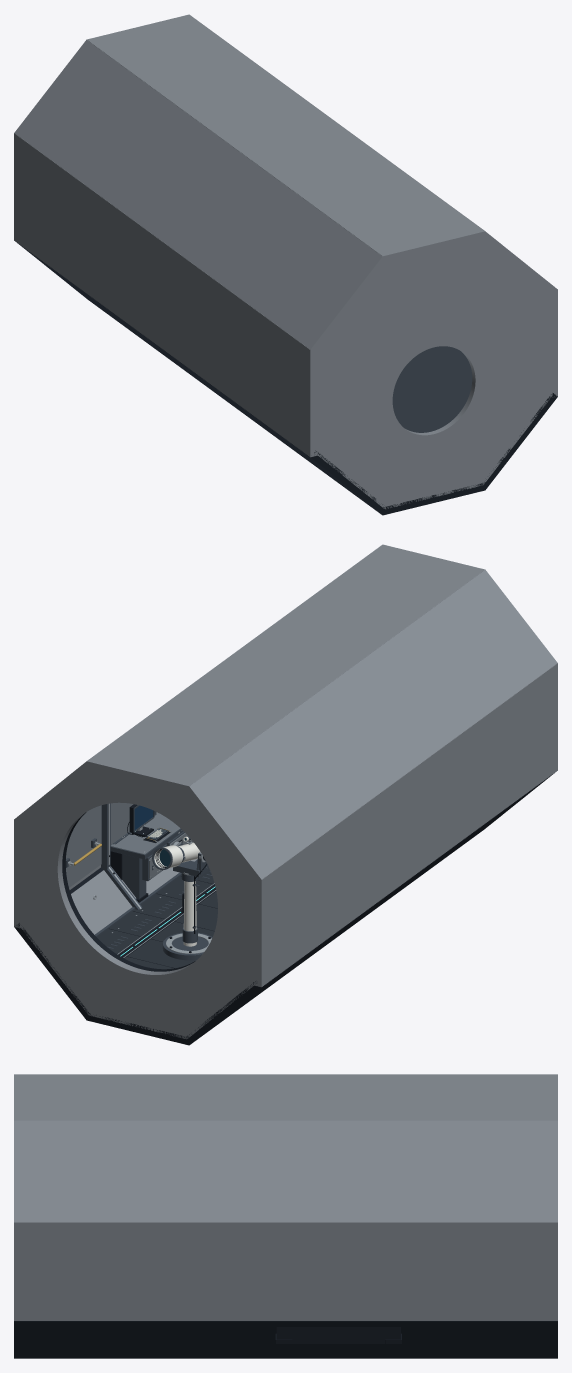
Rendered from cabin.glb.
3 renders of one model, top to bottom at view 1: azimuth 30°, elevation 25°; view 2: azimuth 150°, elevation 25°; view 3: azimuth 270°, elevation 25°, orthographic. The views are drawn at different scales.
Parts seen in each view (by area): view 1: room; view 2: room, telescope, desk; view 3: room, desk.
Boxes of the visible parts, left/top/right/bottom form: room: left=14, top=14, right=557, bottom=515; room: left=14, top=544, right=557, bottom=1045; telescope: left=152, top=836, right=212, bottom=960; desk: left=110, top=813, right=193, bottom=902; room: left=14, top=1074, right=557, bottom=1358; desk: left=275, top=1327, right=401, bottom=1343.
Size of the model in its own units: 4.48 by 4.48 by 9.28.
29 materials, 1 textured.
